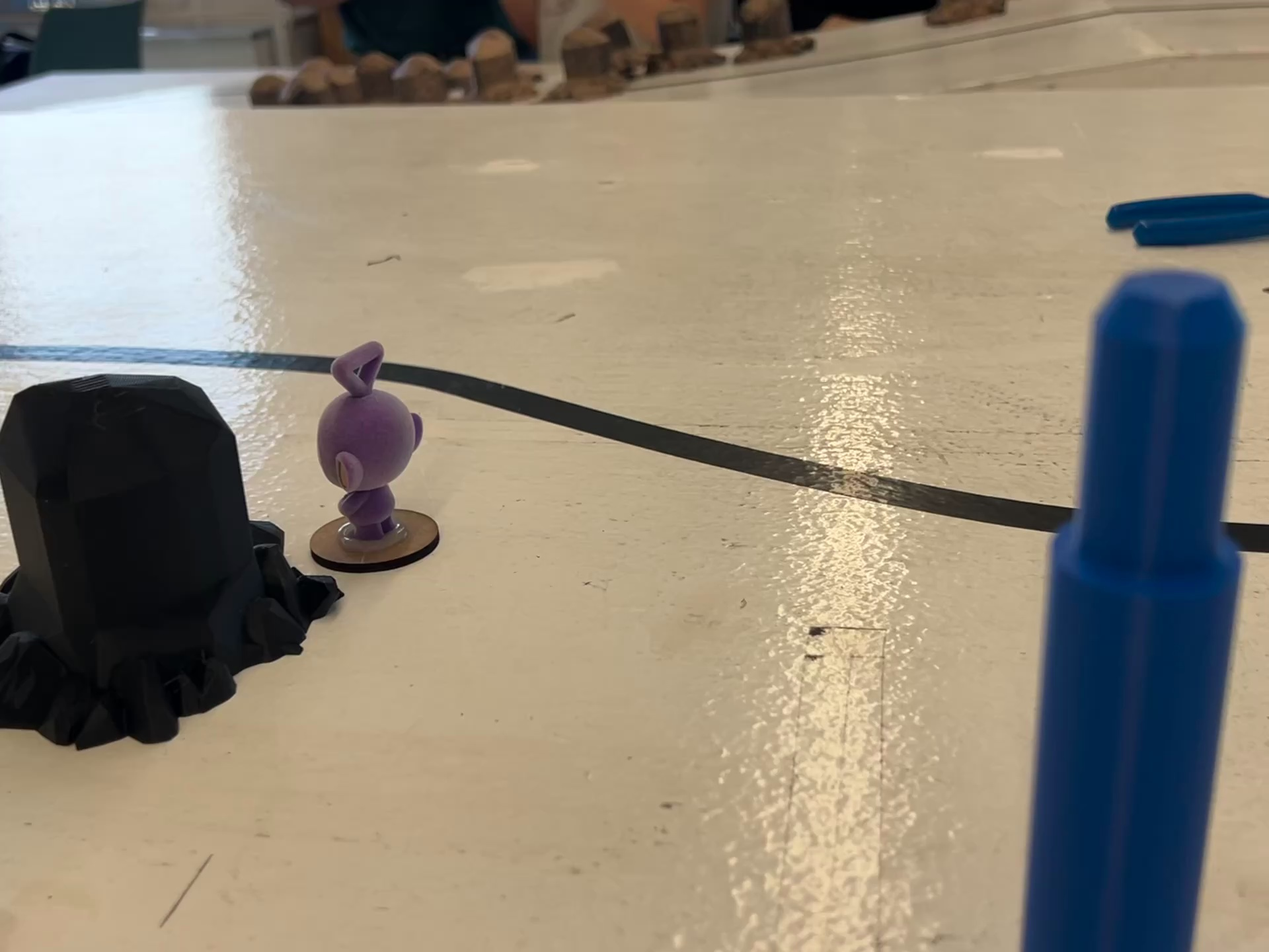teletubby: (317, 342, 423, 541)
